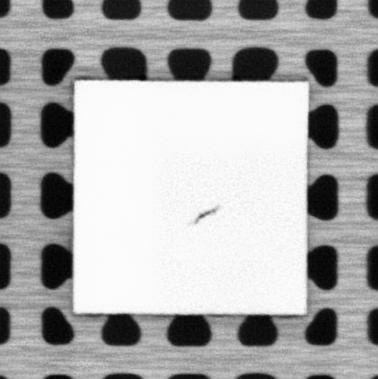DIE_INK: (193, 204, 221, 226)
